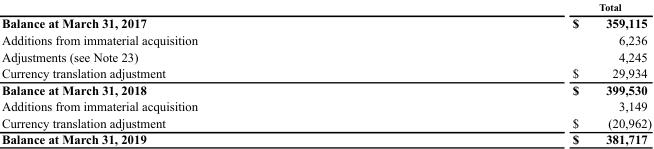table: (0, 0, 650, 146)
table column: (0, 0, 384, 146), (384, 0, 650, 146)
table column header: (0, 0, 650, 14)
table row: (0, 14, 650, 31), (0, 31, 650, 48), (0, 64, 650, 81), (0, 97, 650, 114), (0, 48, 650, 64), (0, 81, 650, 97), (0, 114, 650, 130), (0, 130, 650, 146), (0, 0, 650, 14)
